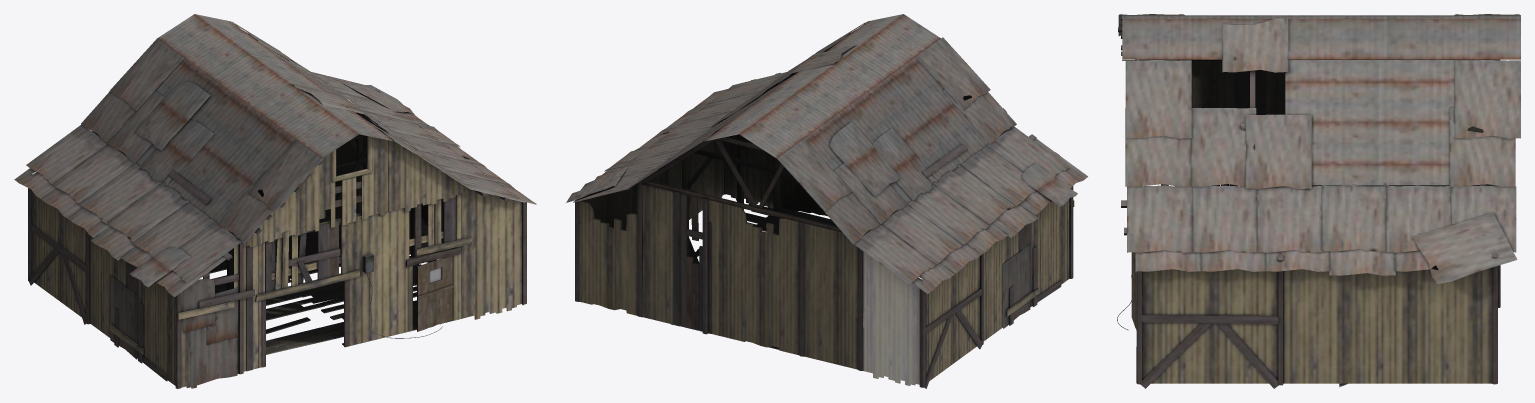
The model's file is american_old_barn.glb.
3 renders of one model, left to right at view 1: azimuth 30°, elevation 25°; view 2: azimuth 150°, elevation 25°; view 3: azimuth 270°, elevation 25°, orthographic. The views are drawn at different scales.
Visible parts, largest first — view 1: Object002_Object002_mtl_0; view 2: Object002_Object002_mtl_0; view 3: Object002_Object002_mtl_0.
Part boxes in pixels (box(x1,y1,x2,y2)): Object002_Object002_mtl_0: box(14, 14, 536, 388); Object002_Object002_mtl_0: box(566, 14, 1087, 388); Object002_Object002_mtl_0: box(1117, 14, 1520, 388).
Size of the model in its own units: 244 by 135 by 184.
Materials: 1 (1 with a texture image).
